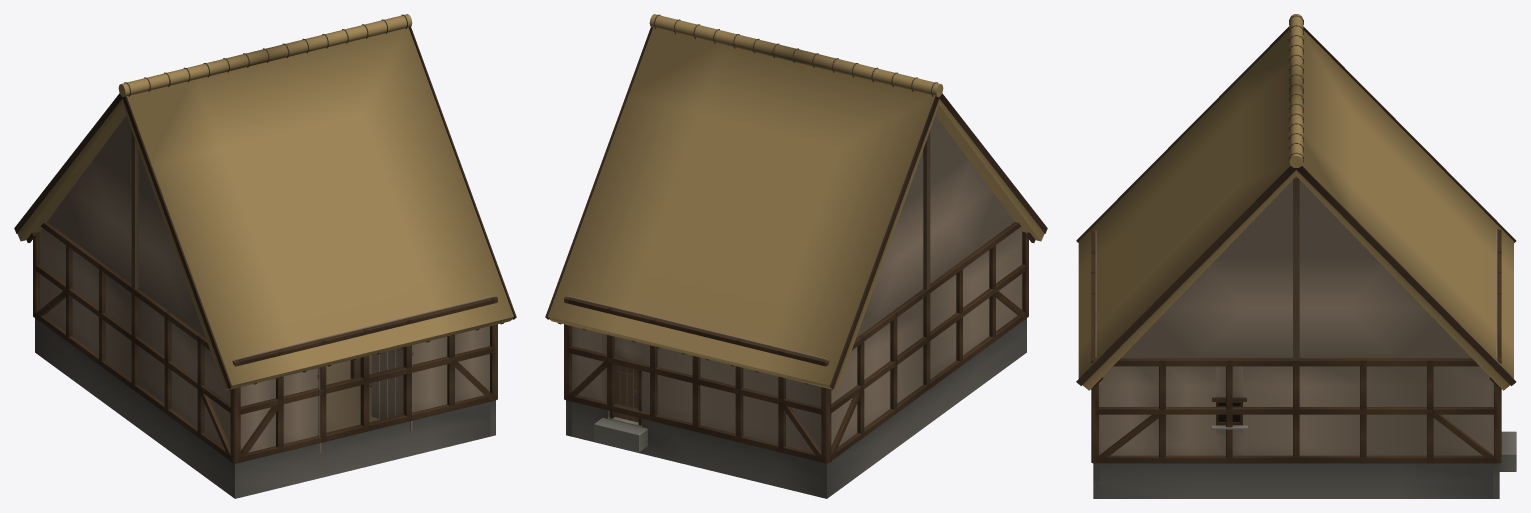
Rendered from barn.glb.
3 renders of one model, left to right at view 1: azimuth 30°, elevation 25°; view 2: azimuth 150°, elevation 25°; view 3: azimuth 270°, elevation 25°, orthographic.
Parts seen in each view (by area): view 1: ext, int; view 2: ext, door0; view 3: ext.
Part boxes in pixels (box(x1,y1,x2,y2)): ext: box(14, 14, 516, 498); int: box(326, 355, 379, 432); ext: box(545, 14, 1047, 498); door0: box(615, 364, 638, 422); ext: box(1076, 14, 1516, 498).
Size of the model in its own units: 10.04 by 11.55 by 13.15.
